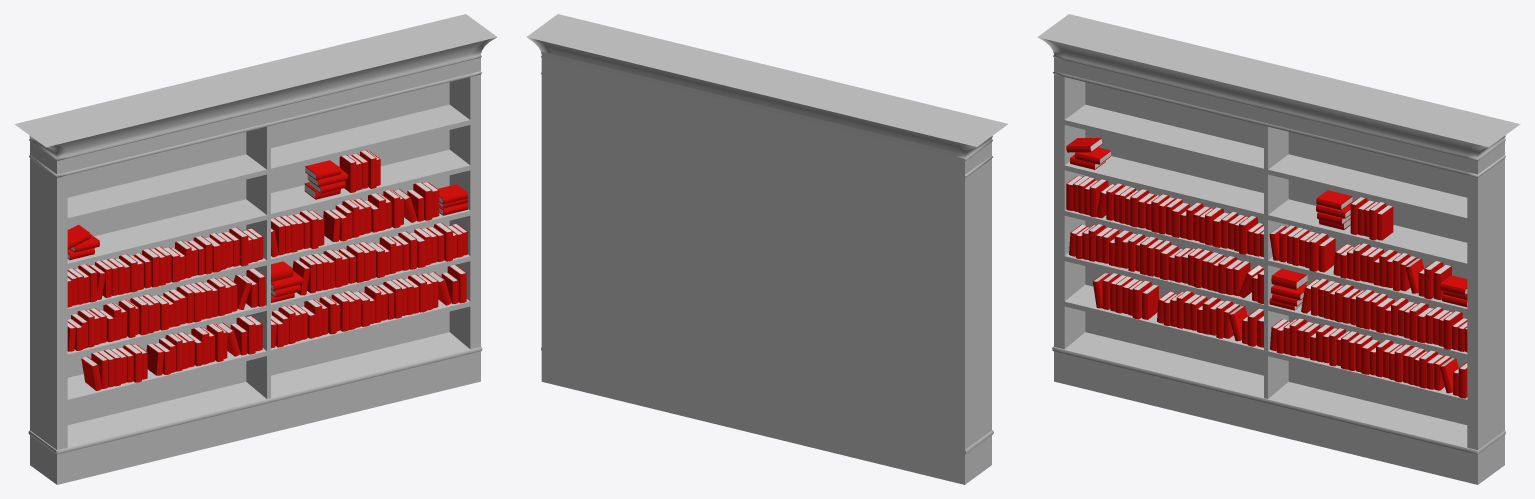
File: bookshelf.fbx
3 views of the same model, side by side, from view 1: azimuth 30°, elevation 25°; view 2: azimuth 150°, elevation 25°; view 3: azimuth 330°, elevation 25° (orthographic).
Parts seen in each view (by area): view 1: bookshelf, book.139; view 2: bookshelf; view 3: bookshelf, book.032, book.007, book.139.
Part boxes in pixels (x1,y1,x2,y2): bookshelf: [14, 14, 497, 484]; book.139: [305, 160, 341, 180]; bookshelf: [526, 14, 1007, 484]; bookshelf: [1037, 14, 1520, 484]; book.032: [1271, 268, 1307, 289]; book.007: [1318, 237, 1335, 272]; book.139: [1316, 190, 1352, 210].
Bounding box in the file's own units: 384 × 279 × 46.57.
